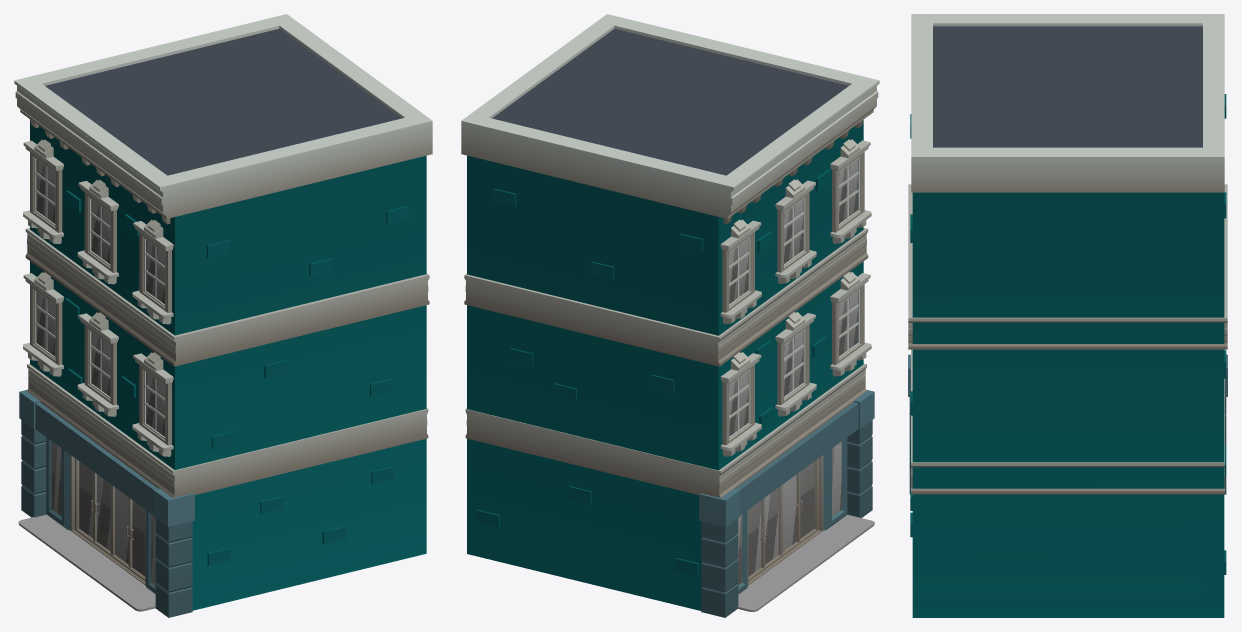
File: Building_21_3_I.fbx
The picture shows the model from 3 angles, left to right: view 1: azimuth 30°, elevation 25°; view 2: azimuth 150°, elevation 25°; view 3: azimuth 270°, elevation 25°; orthographic projection. The views are drawn at different scales.
Parts seen in each view (by area): view 1: Building_21_3_I; view 2: Building_21_3_I; view 3: Building_21_3_I.
Boxes of the visible parts, x1,y1,x2,y2 form: Building_21_3_I: [14, 14, 432, 617]; Building_21_3_I: [461, 14, 879, 617]; Building_21_3_I: [908, 14, 1227, 617].
Size of the model in its own units: 779 by 1141 by 713.
